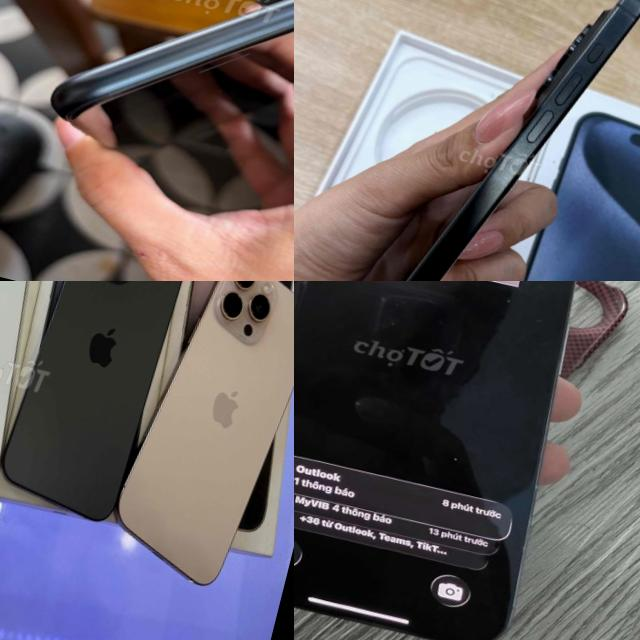gen_15: (312, 0, 640, 281)
gen_17: (294, 281, 640, 640)
scratch: (28, 0, 294, 222), (484, 142, 533, 196)
